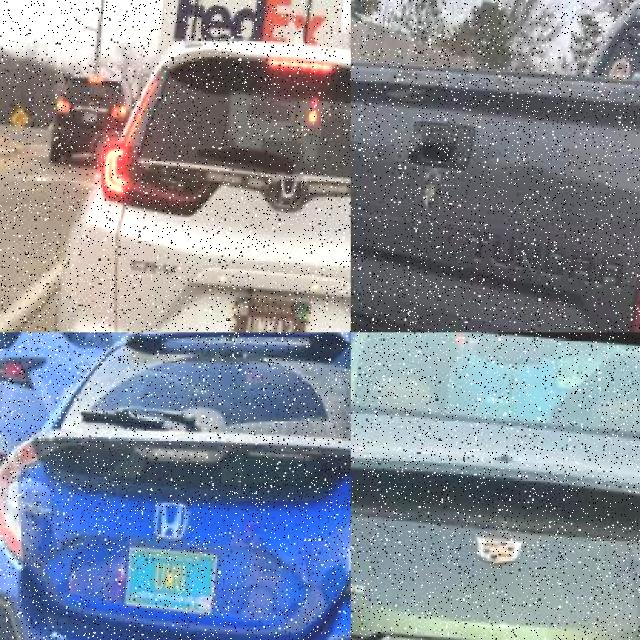licenseplate: (131, 542, 224, 609), (238, 291, 319, 332)
